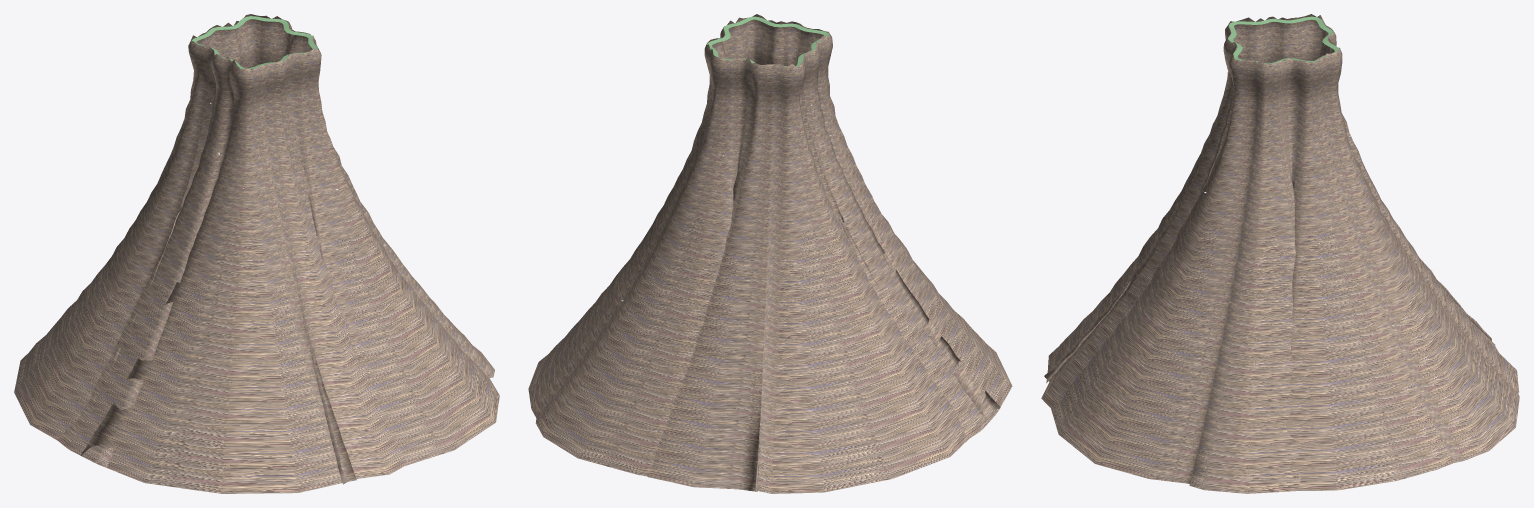
Rendered from CliffWall_stack_09.glb.
3 renders of one model, left to right at view 1: azimuth 30°, elevation 25°; view 2: azimuth 150°, elevation 25°; view 3: azimuth 270°, elevation 25°, orthographic.
Visible parts, largest first — view 1: CliffWall_stack_09-rock0, CliffWall_stack_09-lip0; view 2: CliffWall_stack_09-rock0, CliffWall_stack_09-lip0; view 3: CliffWall_stack_09-rock0, CliffWall_stack_09-lip0.
Boxes of the visible parts, x1,y1,x2,y2 form: CliffWall_stack_09-rock0: [14, 14, 499, 493]; CliffWall_stack_09-lip0: [191, 16, 317, 69]; CliffWall_stack_09-rock0: [528, 14, 1012, 493]; CliffWall_stack_09-lip0: [707, 16, 828, 67]; CliffWall_stack_09-rock0: [1041, 14, 1519, 493]; CliffWall_stack_09-lip0: [1228, 16, 1339, 64].
Size of the model in its own units: 792 by 646 by 788.
Materials: 4 (1 with a texture image).
